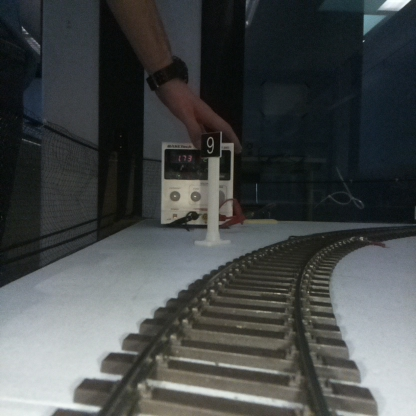black-info-9: (201, 131, 220, 245)
